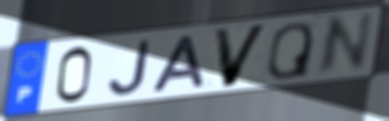0: (55, 44, 94, 105)
A: (149, 33, 208, 94)
J: (105, 37, 154, 98)
N: (313, 10, 377, 80)
Q: (265, 21, 315, 82)
V: (211, 22, 272, 90)
